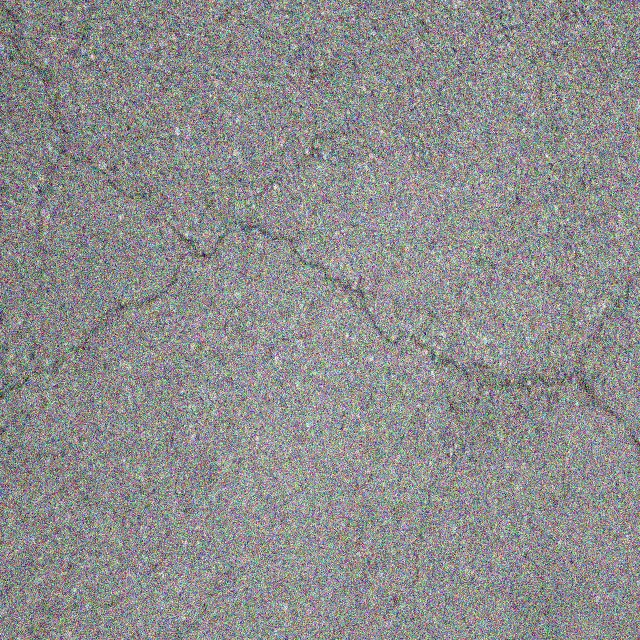SurfaceCrack: (0, 181, 639, 494)
